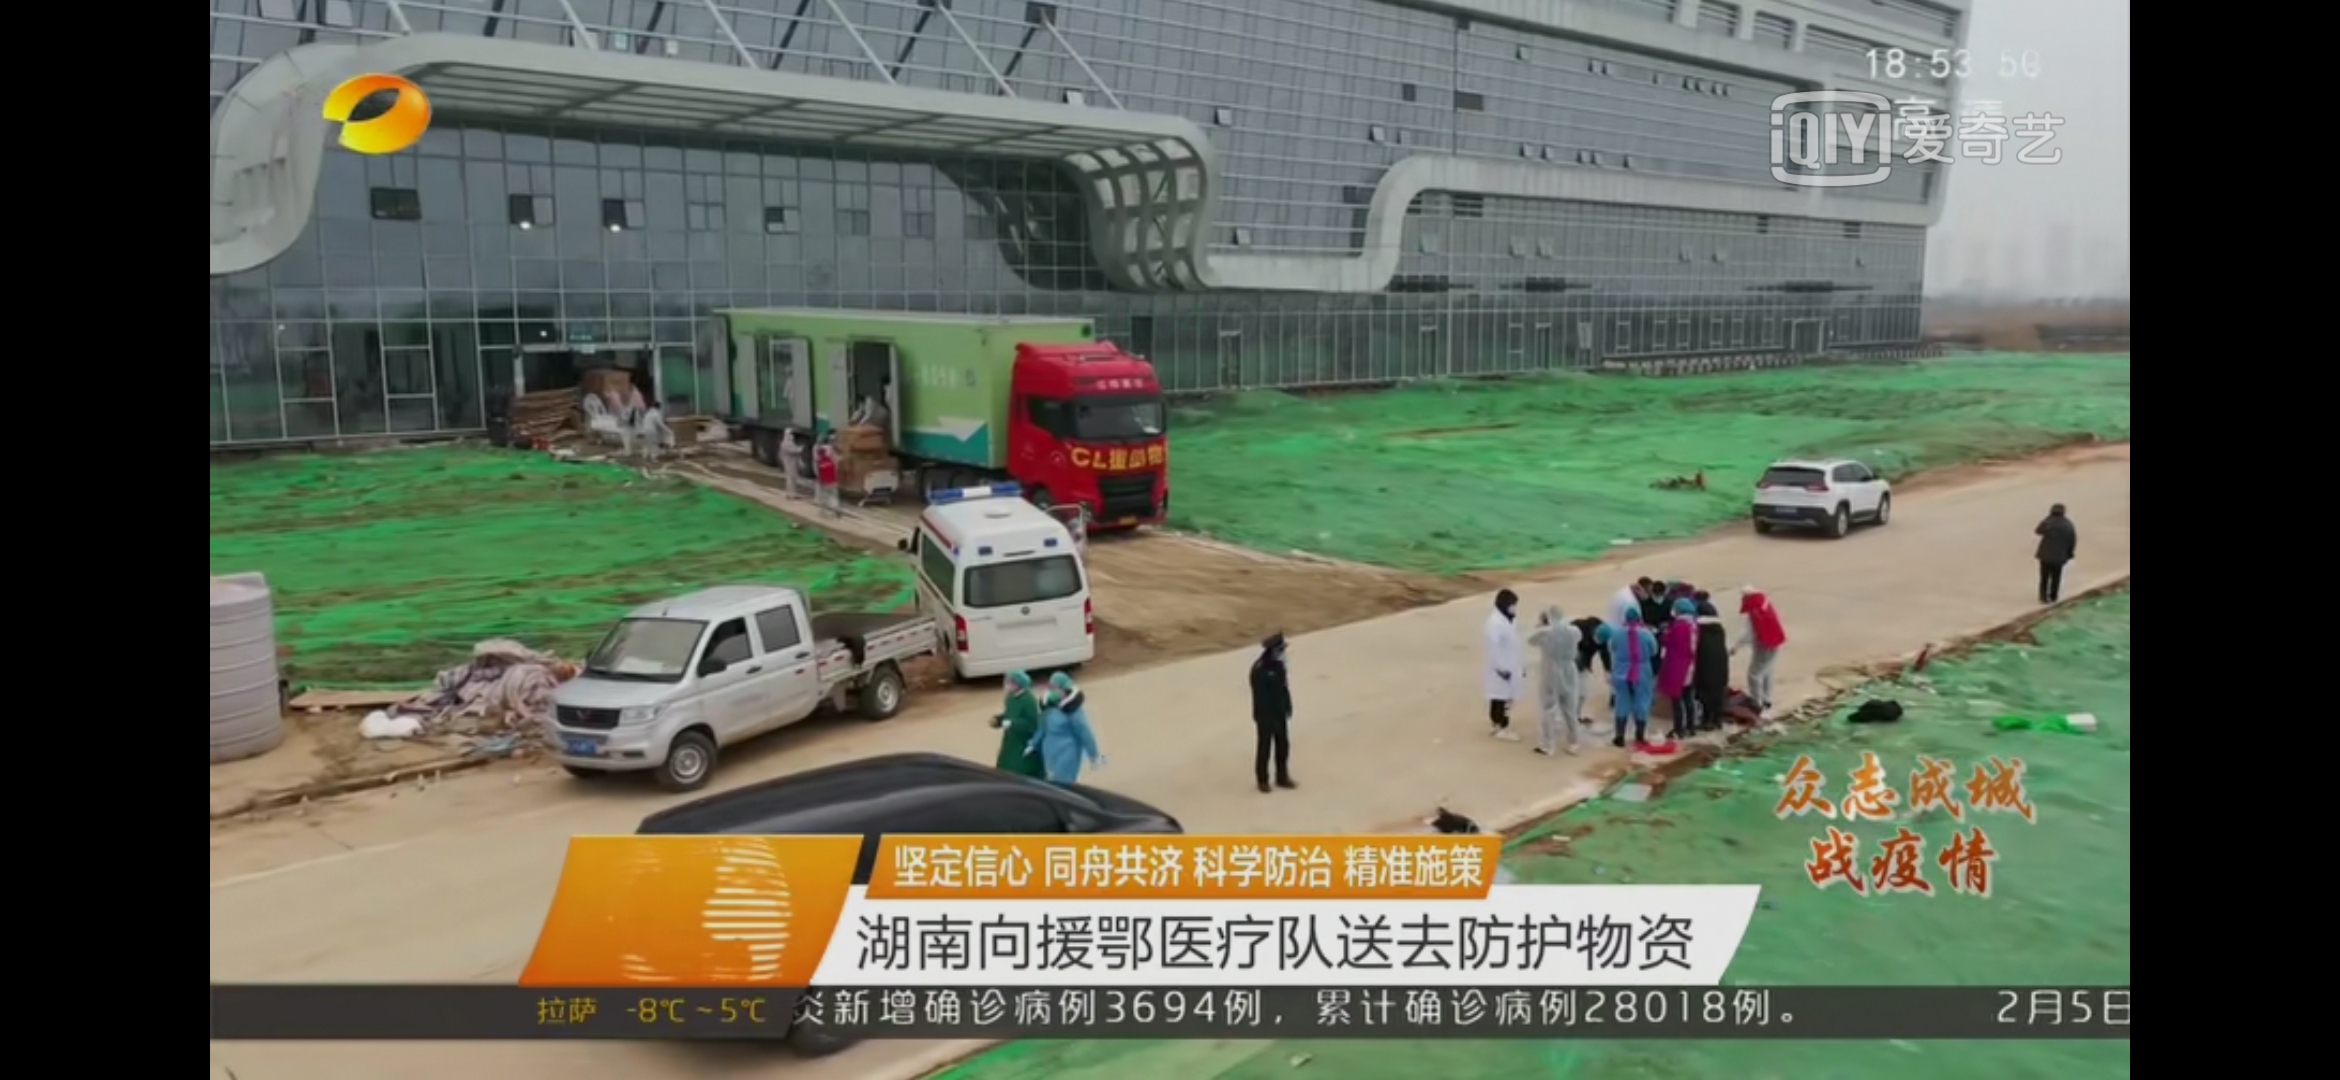correctlyWear: (1000, 671, 1024, 698), (1048, 676, 1067, 703), (1273, 638, 1286, 662), (1503, 598, 1518, 618), (1651, 588, 1664, 604)
